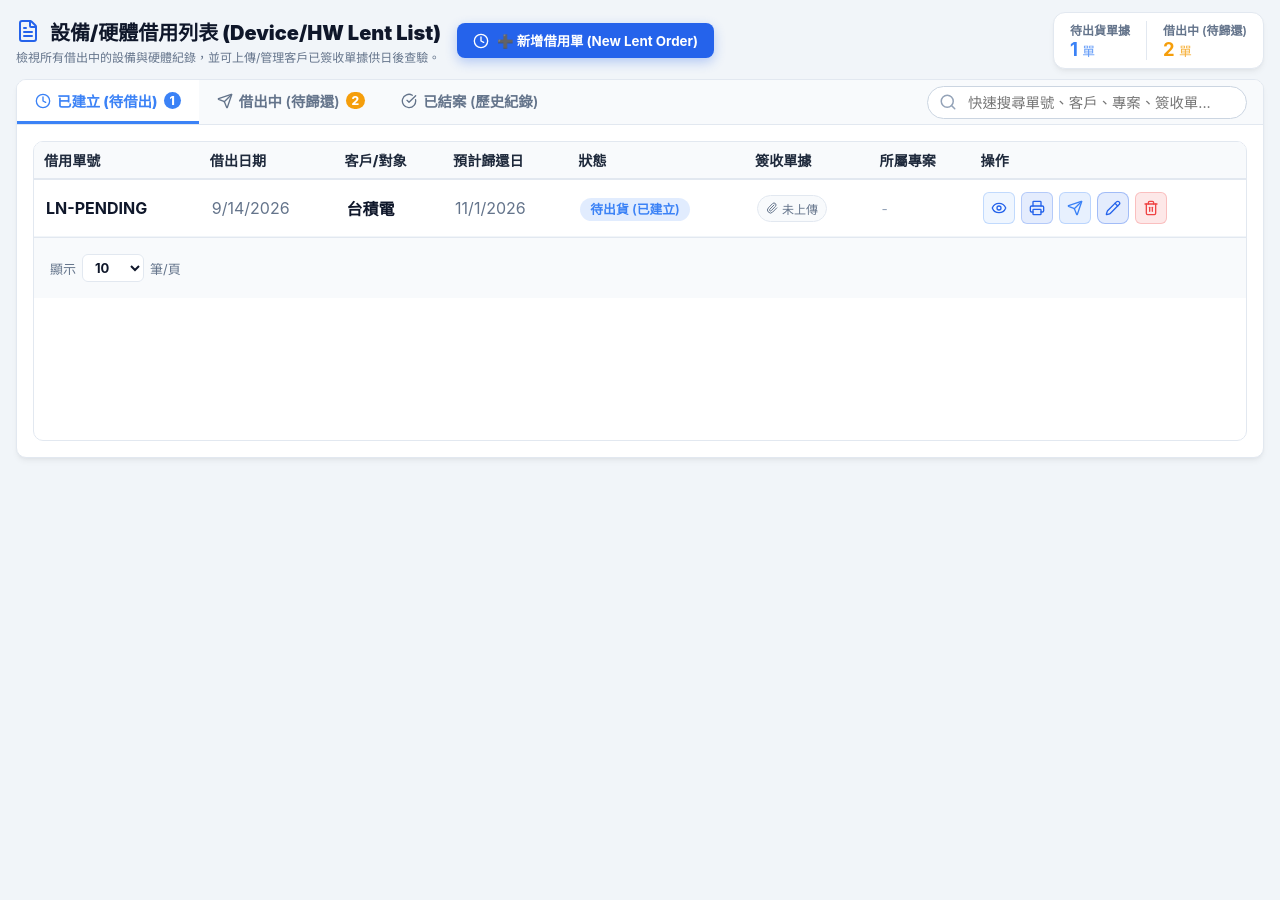
Test case: 借用列表上延長 › 確定延長：只改這張單的預計歸還日，原因記在事件紀錄
This screenshot has width=1280, height=900.
Expected: the text "LN-PENDING" is shown, [34,179,200,236]
Click the button "借出中 (待歸還) 2" at coordinates (291, 102), box [199,80,383,124]
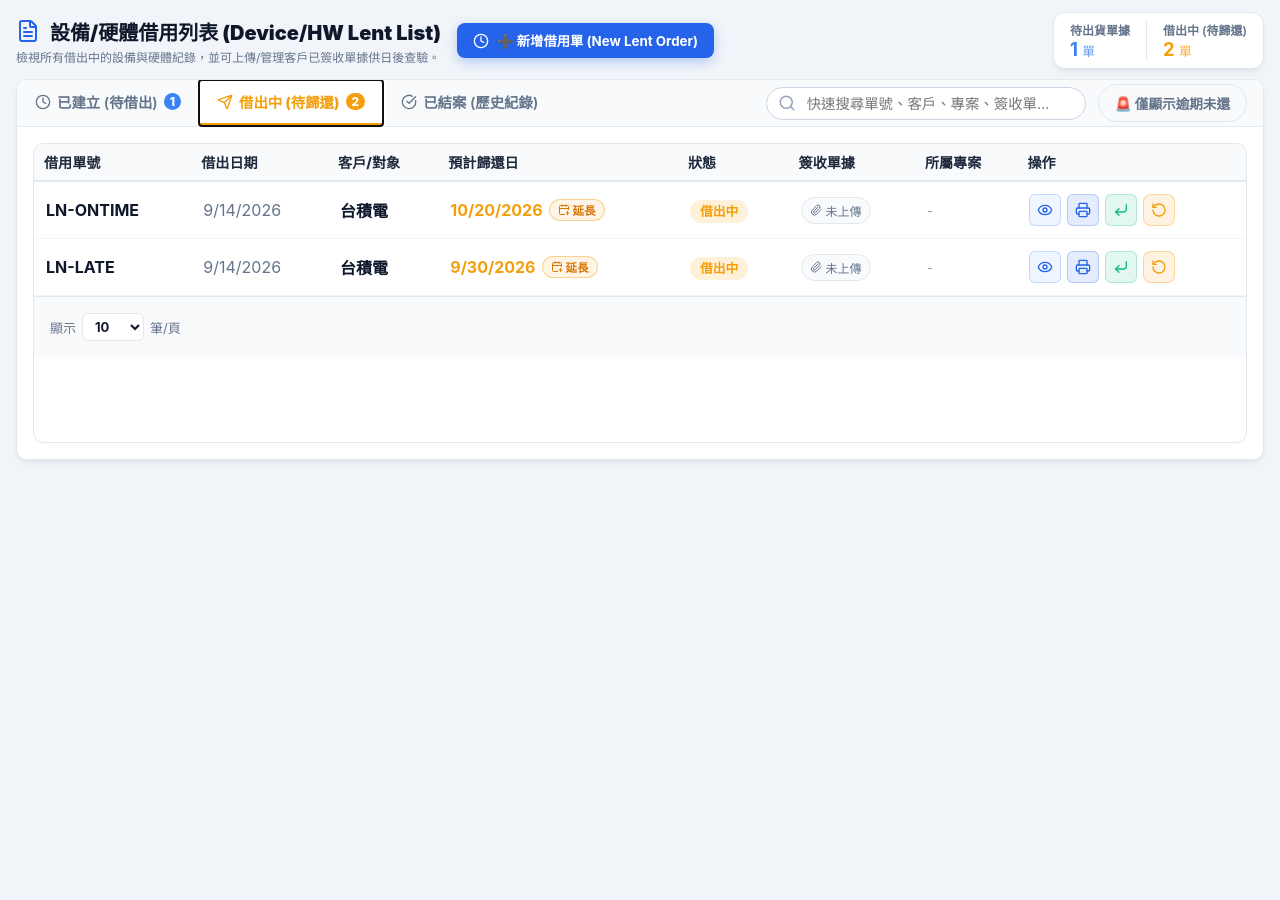
Result: the text "LN-ONTIME" is shown at [34,181,191,238]
Click the button with aria-label "延長預計歸還日 LN-ONTIME" at coordinates (576, 210), box [548,199,604,221]
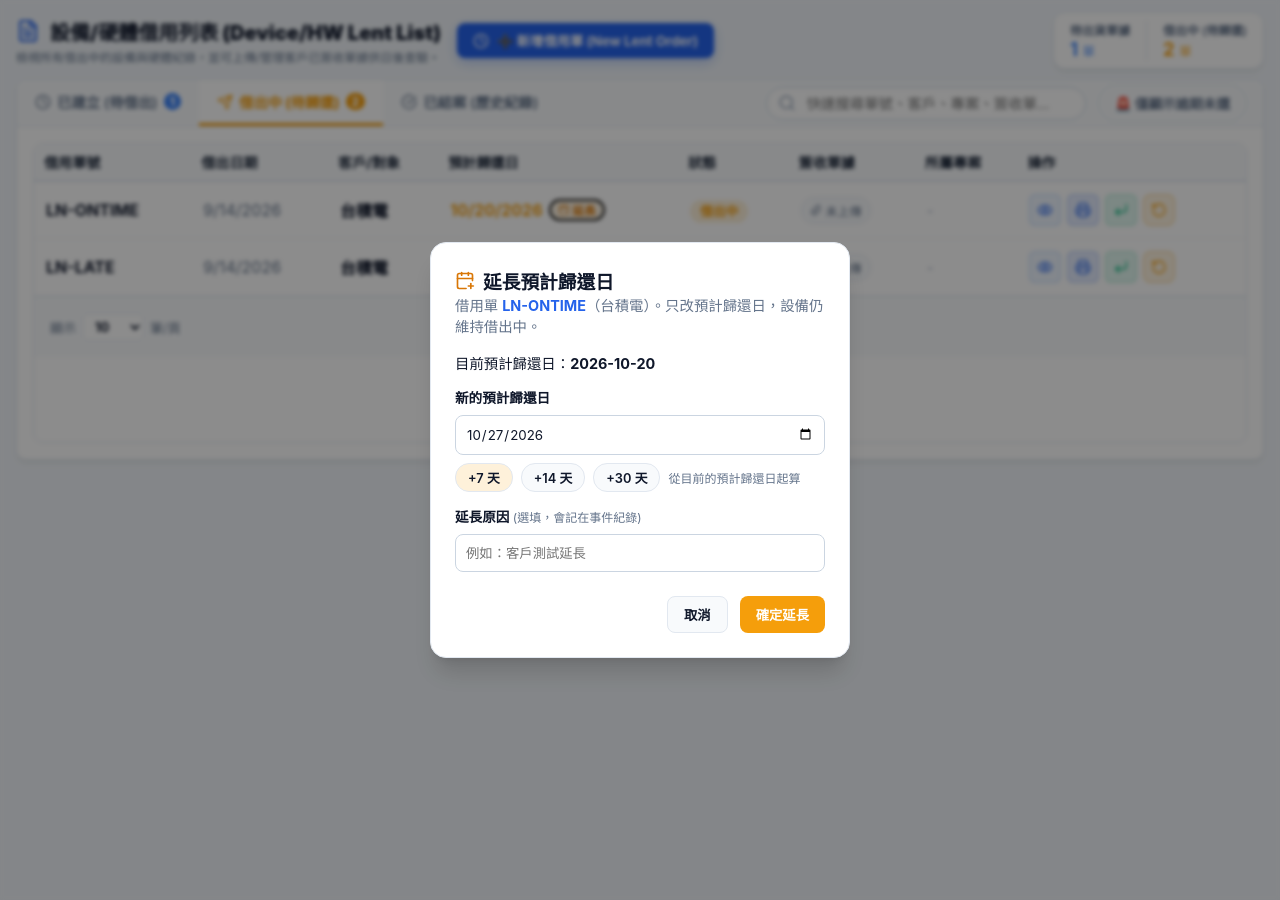
Type "客戶測試延長" into the field labelled "延長原因 (選填，會記在事件紀錄)" at coordinates (640, 553), box [455,534,825,572]
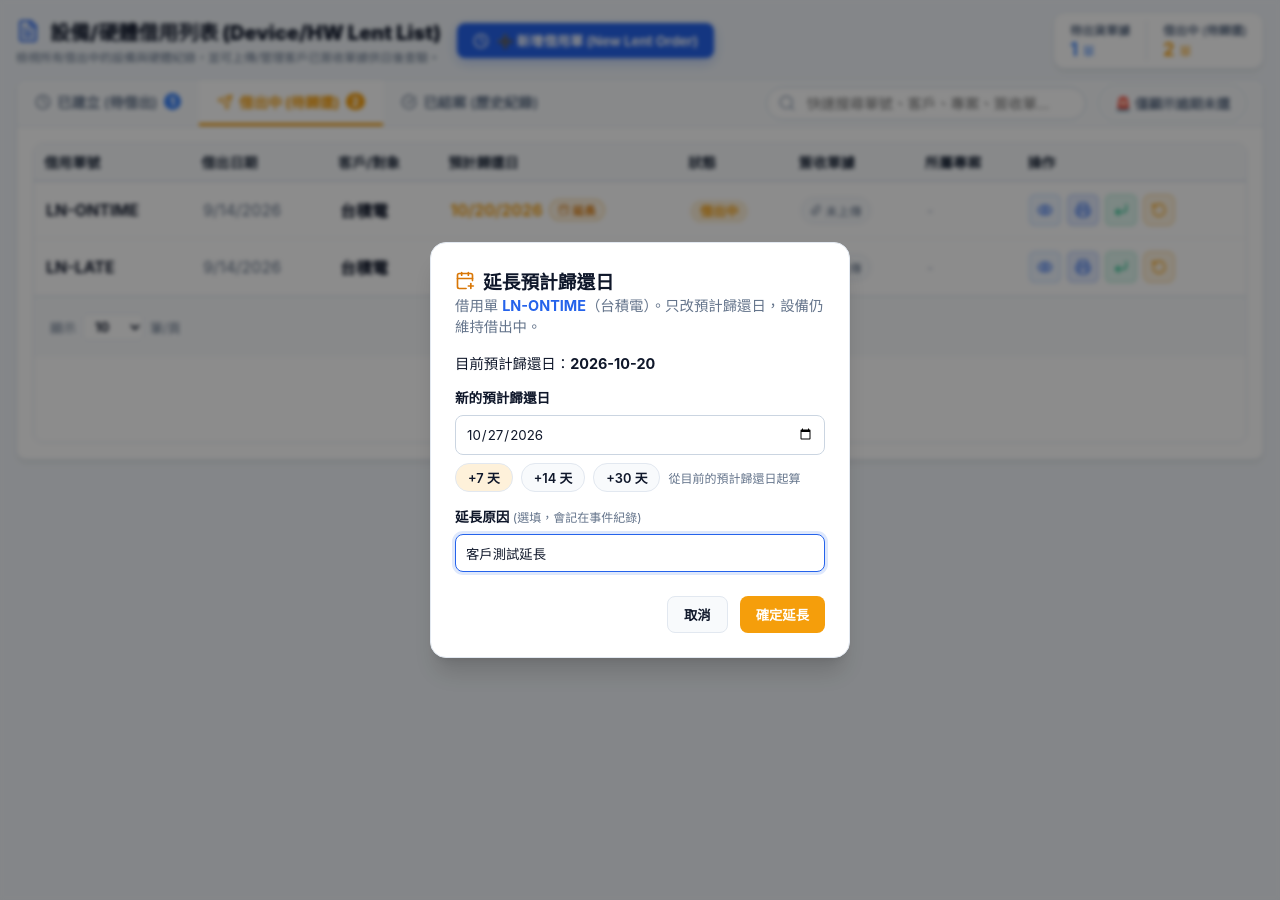
Click the button "確定延長" at coordinates (782, 614), box [740,596,825,633]
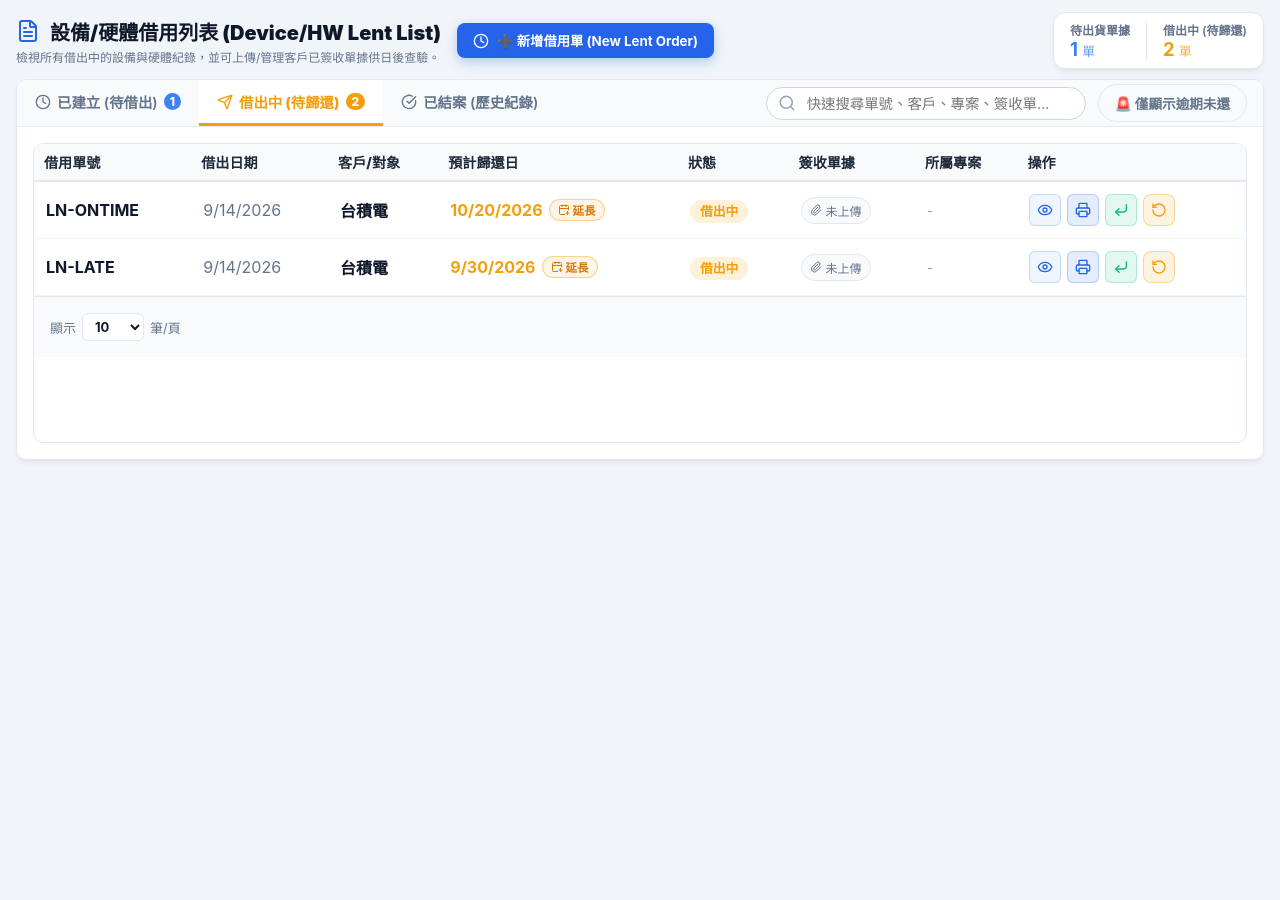
Result: the heading "延長預計歸還日" is gone
